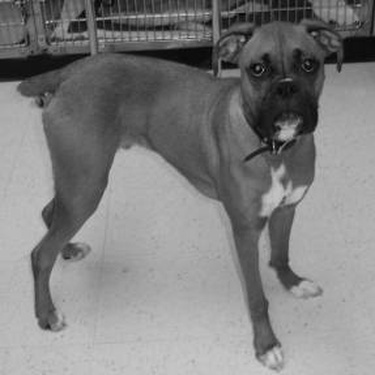dog: (13, 16, 350, 371)
